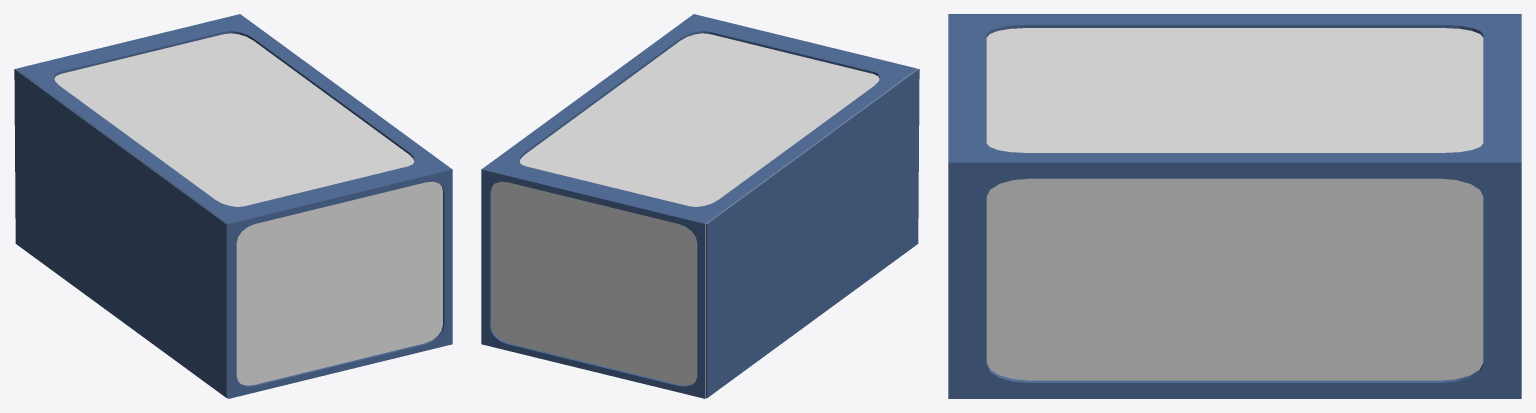
The model's file is toyboxcar.fbx.
3 views of the same model, side by side, from view 1: azimuth 30°, elevation 25°; view 2: azimuth 150°, elevation 25°; view 3: azimuth 270°, elevation 25° (orthographic). The views are drawn at different scales.
Visible parts, largest first — view 1: box; view 2: box; view 3: box.
Part boxes in pixels (x1=…): box: x1=14, y1=14, x2=452, y2=398; box: x1=481, y1=14, x2=919, y2=398; box: x1=948, y1=14, x2=1521, y2=398.
Bounding box in the file's own units: 327 × 242 × 533.
